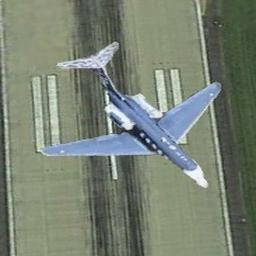Airplane: (40, 36, 226, 196)
